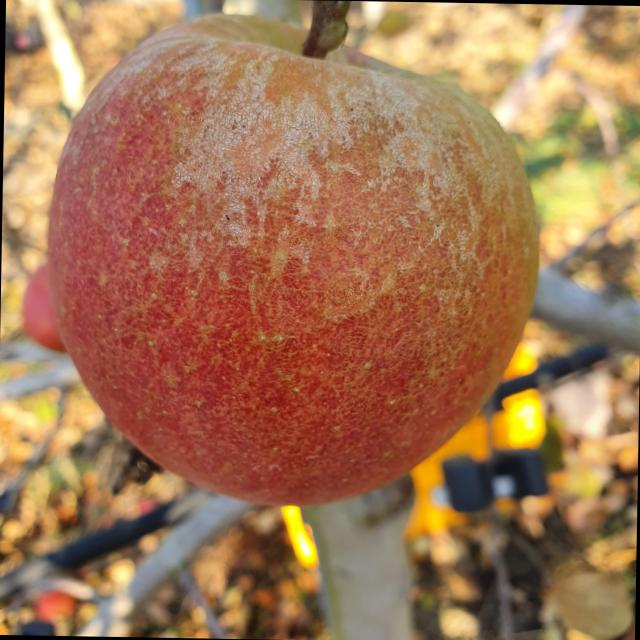fresh: (34, 1, 552, 516)
